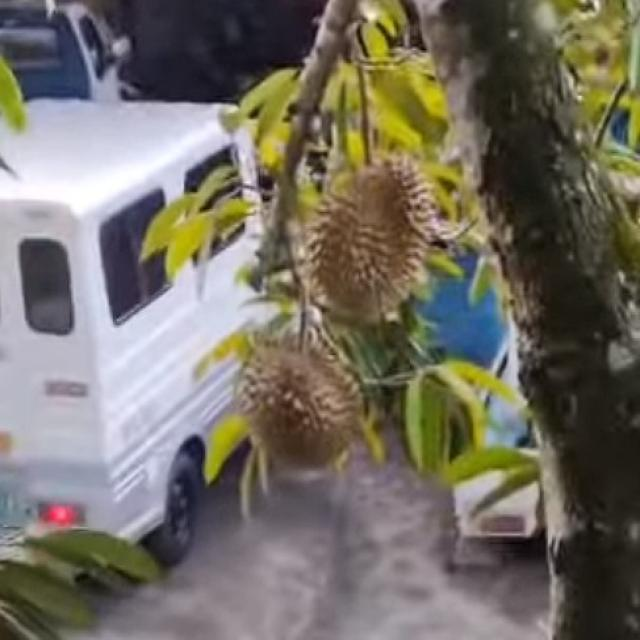mature: (306, 155, 433, 319), (237, 330, 363, 474)
